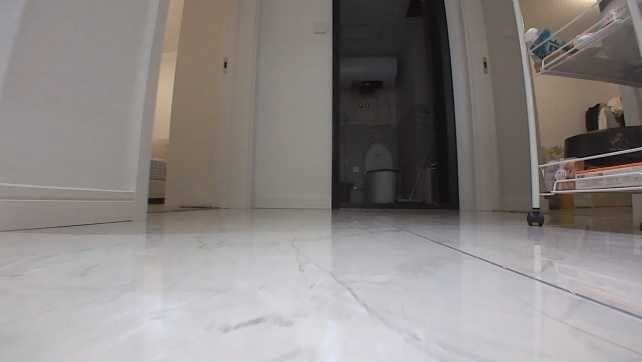door_sill: (340, 198, 451, 211)
toilet: (363, 140, 397, 201)
